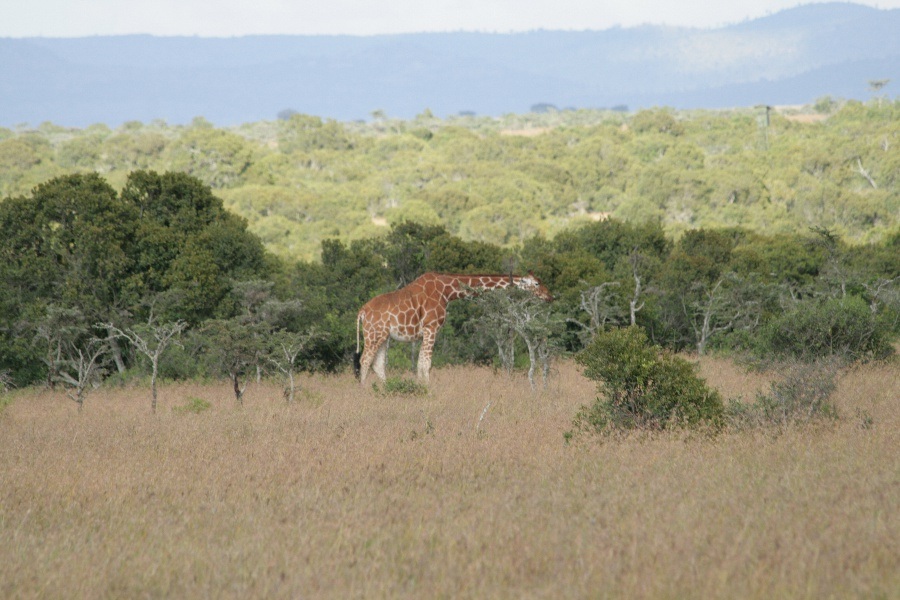giraffe: (346, 261, 559, 390)
